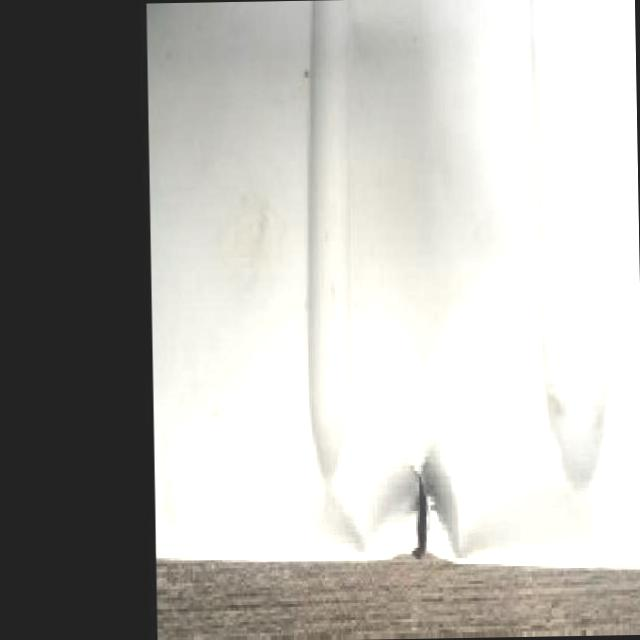crack: (401, 456, 456, 568)
